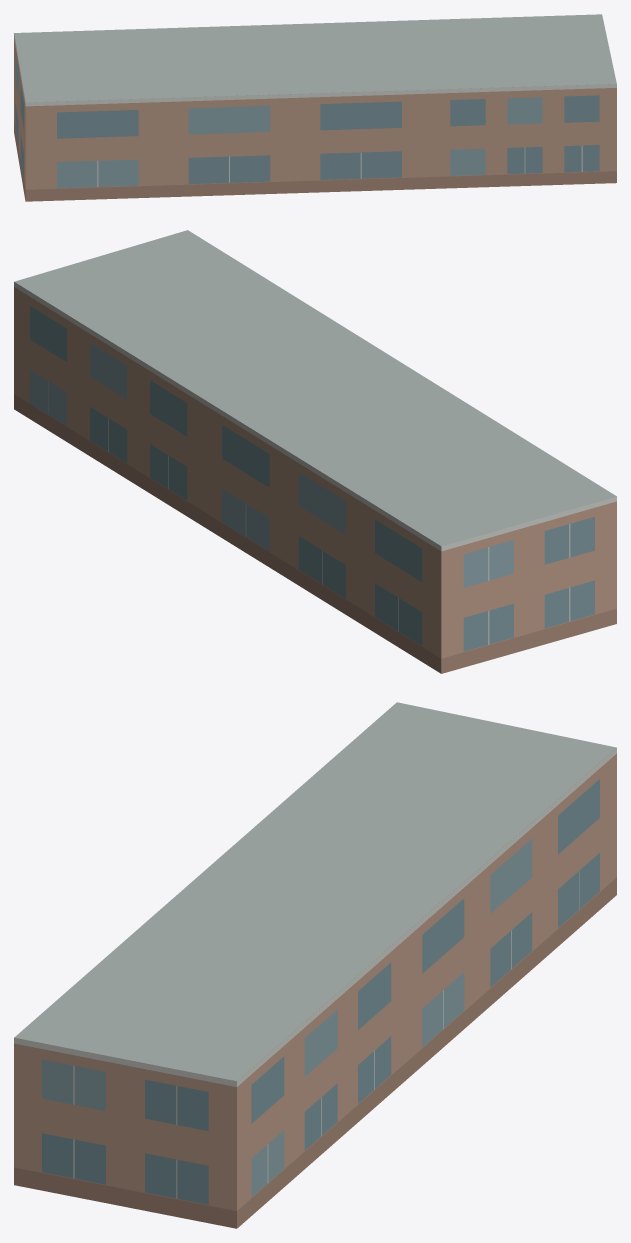
Rendered from survey-upis-32553141.glb.
3 renders of one model, top to bottom at view 1: azimuth 30°, elevation 25°; view 2: azimuth 150°, elevation 25°; view 3: azimuth 270°, elevation 25°, orthographic. The views are drawn at different scales.
Parts seen in each view (by area): view 1: survey-upis-32553141.tmp; view 2: survey-upis-32553141.tmp; view 3: survey-upis-32553141.tmp.
Part boxes in pixels (x1=…): survey-upis-32553141.tmp: x1=14, y1=14, x2=616, y2=201; survey-upis-32553141.tmp: x1=14, y1=230, x2=616, y2=673; survey-upis-32553141.tmp: x1=14, y1=702, x2=616, y2=1228.
Bounding box in the file's own units: 33.64 × 6.1 × 22.61.
